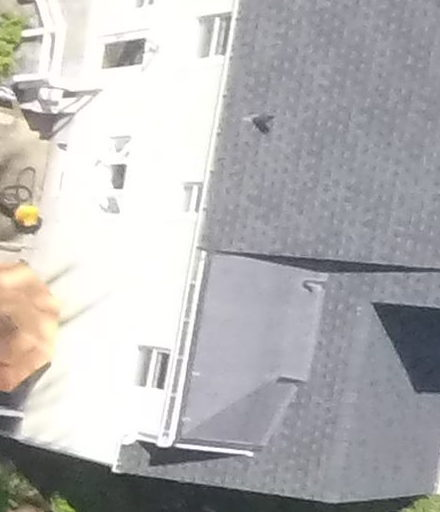umbrella: (1, 244, 77, 393)
